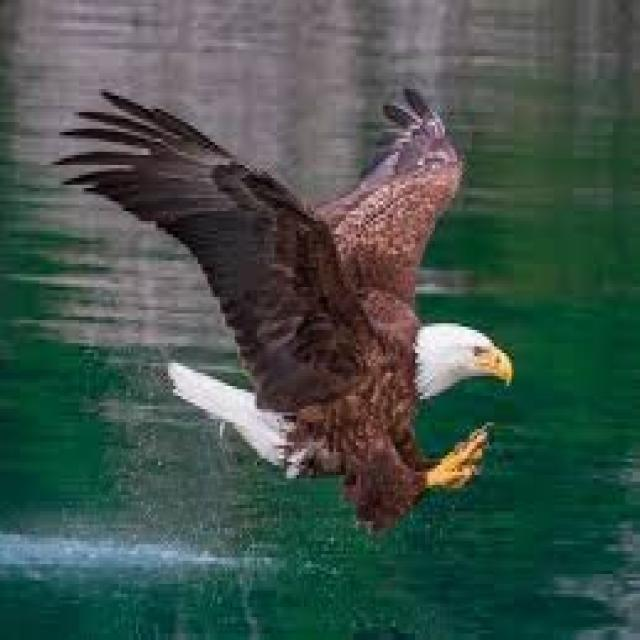Eagle: (63, 83, 510, 515)
